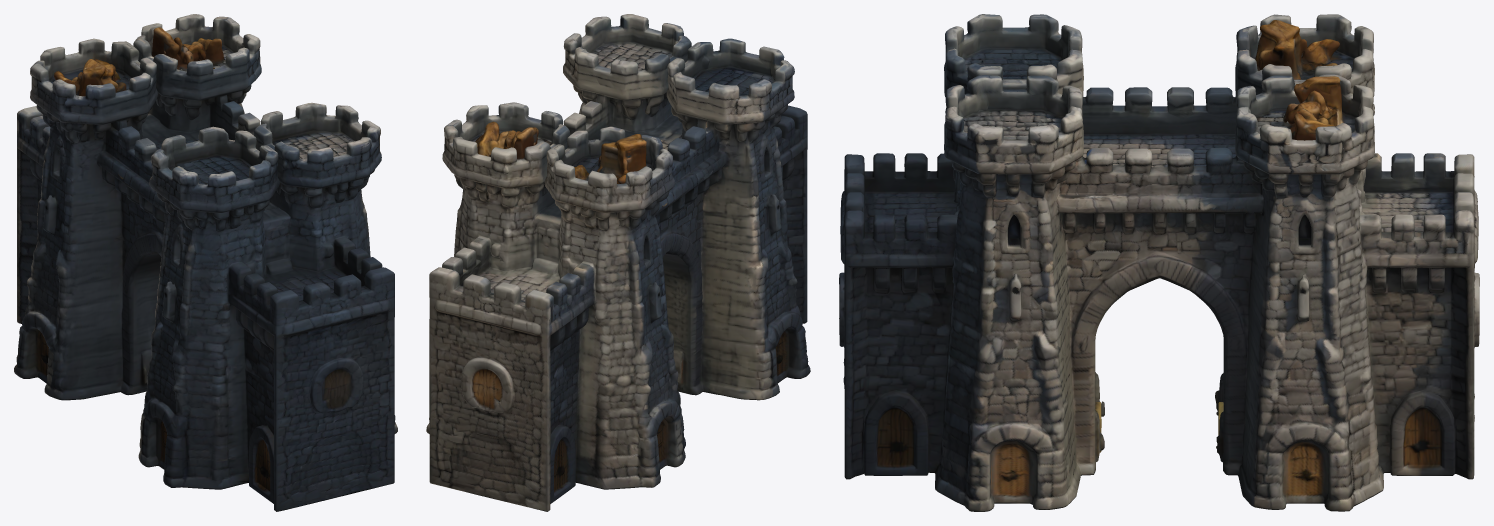
File: city-gate-main.glb
3 views of the same model, side by side, from view 1: azimuth 30°, elevation 25°; view 2: azimuth 150°, elevation 25°; view 3: azimuth 270°, elevation 25° (orthographic). The views are drawn at different scales.
Visible parts, largest first — view 1: tripo_node_2400eefb-a049-4230-aa8b-d23dd4bad97c; view 2: tripo_node_2400eefb-a049-4230-aa8b-d23dd4bad97c; view 3: tripo_node_2400eefb-a049-4230-aa8b-d23dd4bad97c.
Boxes of the visible parts, x1,y1,x2,y2 form: tripo_node_2400eefb-a049-4230-aa8b-d23dd4bad97c: (14, 14, 397, 511); tripo_node_2400eefb-a049-4230-aa8b-d23dd4bad97c: (426, 14, 810, 511); tripo_node_2400eefb-a049-4230-aa8b-d23dd4bad97c: (839, 14, 1479, 511).
Size of the model in its own units: 11.37 by 15 by 22.7.
Materials: 1 (1 with a texture image).
